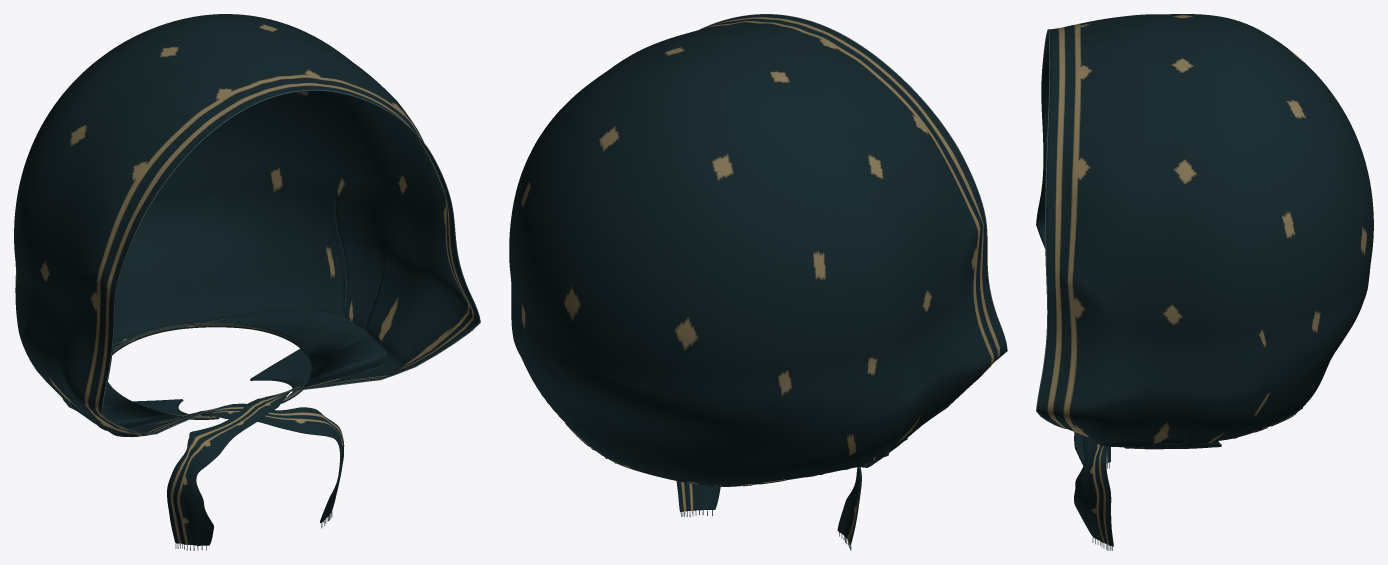
The model's file is Feminine-Feminine-curls-tank-pashmina250-headgear-7583be13.glb.
3 renders of one model, left to right at view 1: azimuth 30°, elevation 25°; view 2: azimuth 150°, elevation 25°; view 3: azimuth 270°, elevation 25°, orthographic. The views are drawn at different scales.
Visible parts, largest first — view 1: 226 headgear / Headwear / continuous woven pashmina239, 226 headgear / Headwear / face edge239; view 2: 226 headgear / Headwear / continuous woven pashmina239, 226 headgear / Headwear / face edge239; view 3: 226 headgear / Headwear / continuous woven pashmina239, 226 headgear / Headwear / face edge239.
Boxes of the visible parts, x1,y1,x2,y2 form: 226 headgear / Headwear / continuous woven pashmina239: [14, 14, 480, 545]; 226 headgear / Headwear / face edge239: [101, 89, 480, 434]; 226 headgear / Headwear / continuous woven pashmina239: [509, 14, 1006, 544]; 226 headgear / Headwear / face edge239: [699, 14, 1007, 360]; 226 headgear / Headwear / continuous woven pashmina239: [1036, 14, 1373, 546]; 226 headgear / Headwear / face edge239: [1036, 29, 1066, 428].
Size of the model in its own units: 1.22 by 1.43 by 0.9109.
3 materials, 1 textured.
